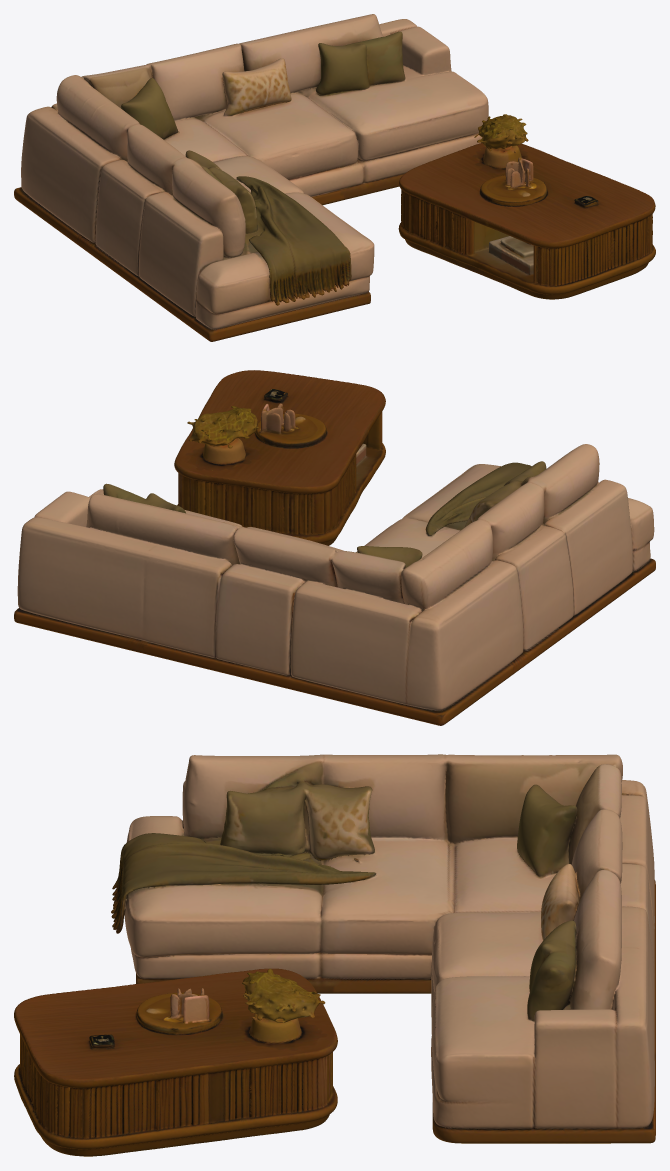
Rendered from sectional-sofa.glb.
3 renders of one model, top to bottom at view 1: azimuth 30°, elevation 25°; view 2: azimuth 150°, elevation 25°; view 3: azimuth 270°, elevation 25°, orthographic. The views are drawn at different scales.
Parts seen in each view (by area): view 1: tripo_node_340c668b-35bf-4409-b0fe-0d5a25d855b2; view 2: tripo_node_340c668b-35bf-4409-b0fe-0d5a25d855b2; view 3: tripo_node_340c668b-35bf-4409-b0fe-0d5a25d855b2.
Part boxes in pixels (left/top/right/bottom): tripo_node_340c668b-35bf-4409-b0fe-0d5a25d855b2: left=14, top=14, right=655, bottom=341; tripo_node_340c668b-35bf-4409-b0fe-0d5a25d855b2: left=14, top=370, right=655, bottom=725; tripo_node_340c668b-35bf-4409-b0fe-0d5a25d855b2: left=14, top=754, right=655, bottom=1156.
Bounding box in the file's own units: 0.9962 × 0.2793 × 1.
1 material, 1 textured.
